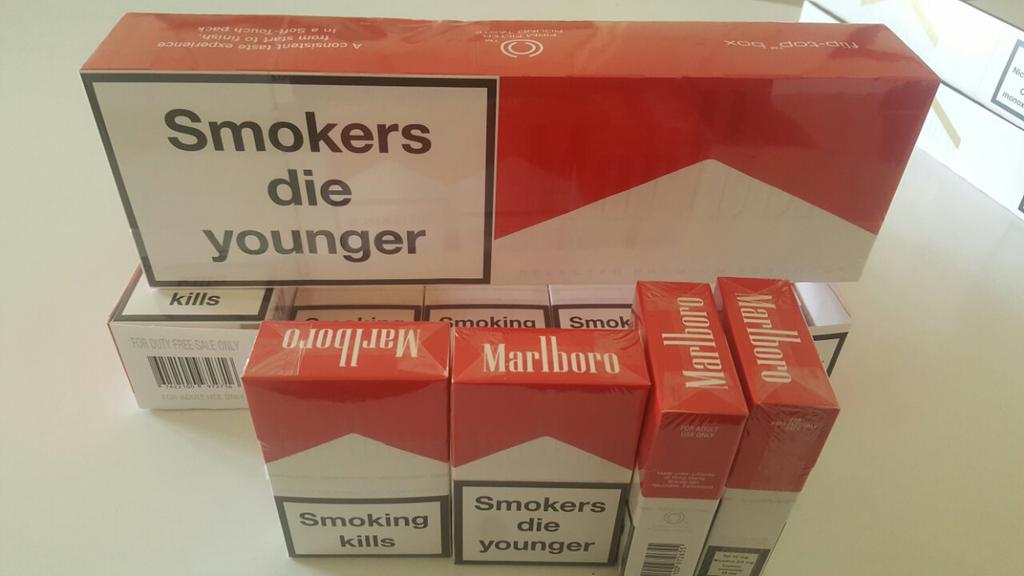marlboro_red: (450, 384, 628, 569), (280, 383, 448, 560)
